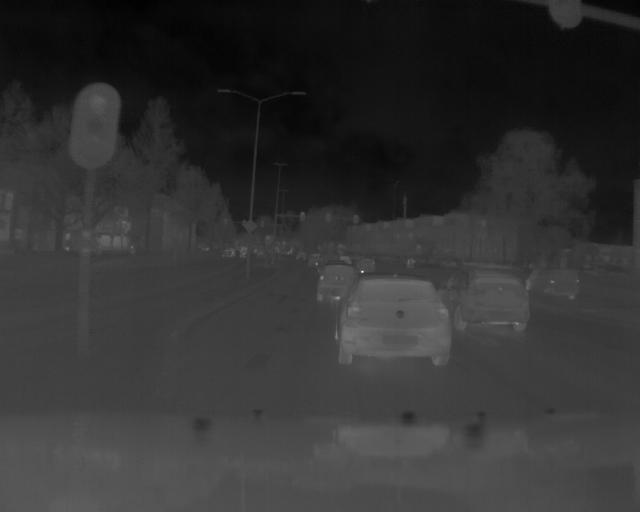car: (340, 270, 453, 371), (453, 265, 531, 334), (527, 265, 583, 303), (315, 261, 355, 302)
